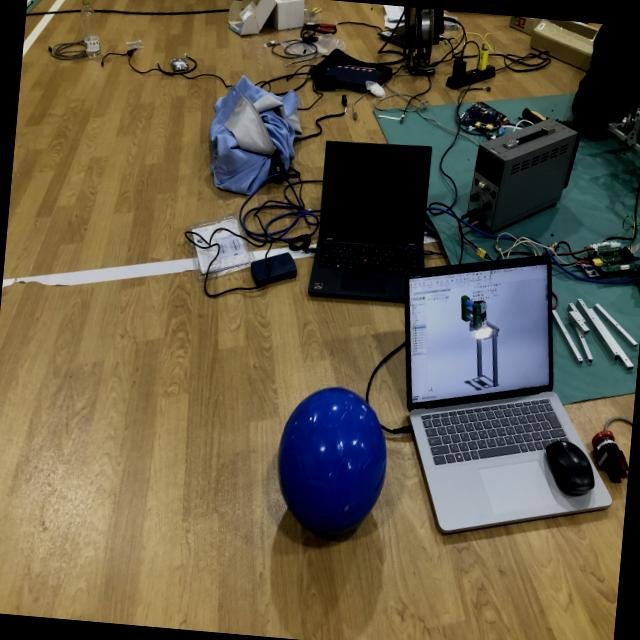blue_ball: (268, 382, 392, 542)
